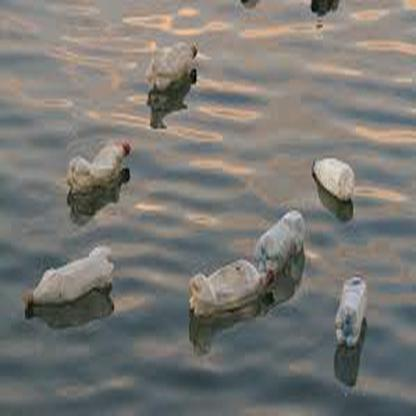plastic bottle: (20, 246, 117, 303), (186, 258, 269, 314), (66, 142, 132, 189), (257, 209, 306, 261), (335, 273, 367, 346), (146, 41, 199, 85), (313, 155, 356, 200)
